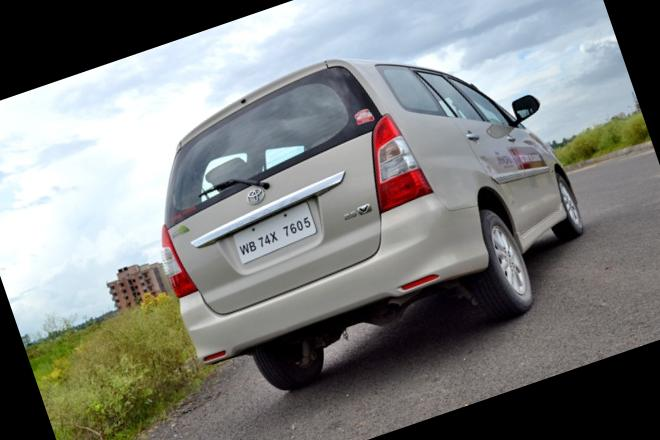plate: (224, 189, 336, 279)
